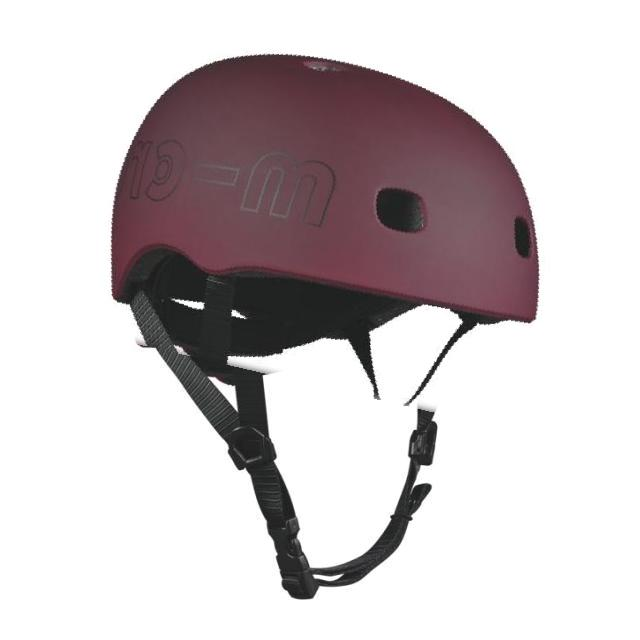helmet: (80, 14, 584, 408)
